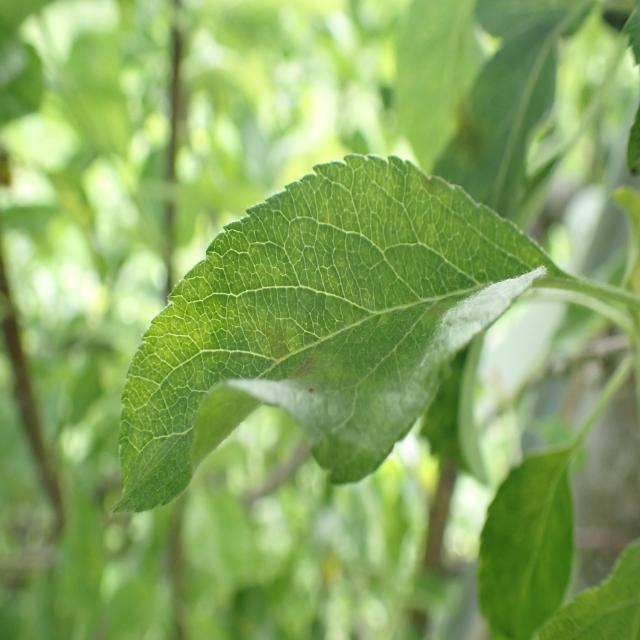scab: (153, 193, 524, 456)
